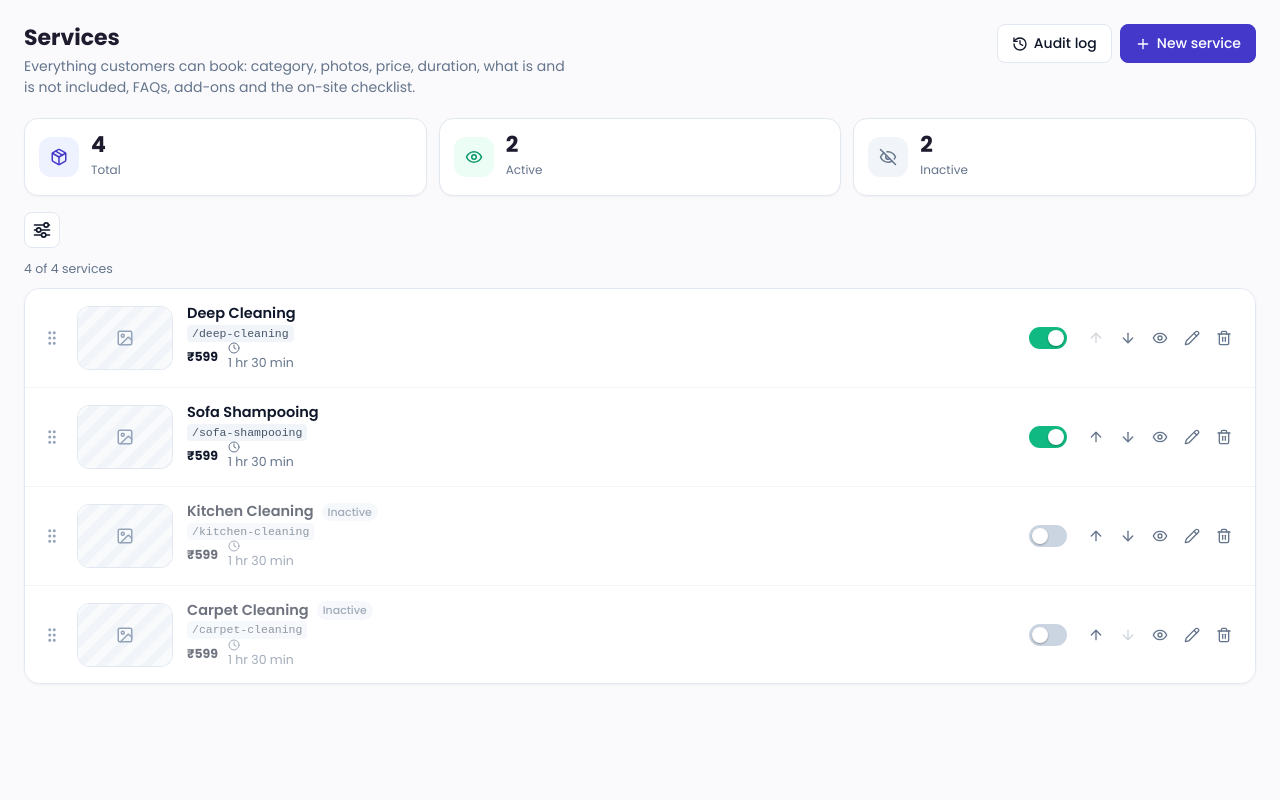
it: Admin services page › creates a service, sends the full payload and shows it in the catalog
Expected: the text "Deep Cleaning" is shown, [187, 303, 296, 325]
Click the button "New service". click: (1188, 44)
box: [1120, 24, 1256, 63]
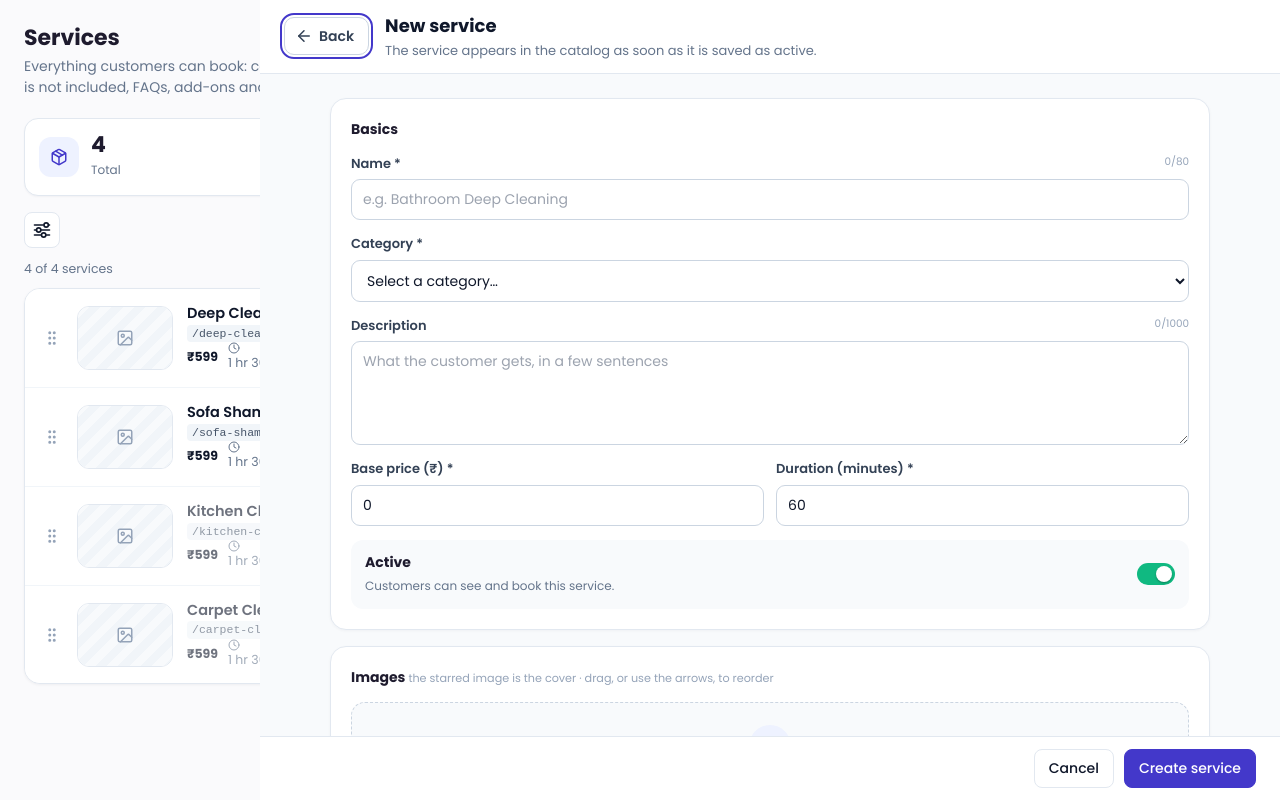
Type "Pest Spray" into the field labelled "Name * 0/80". click: (770, 200)
box: [351, 179, 1189, 220]
Select "Pest Control" in the dropdown labelled "Category *". click: (770, 280)
box: [351, 260, 1189, 302]
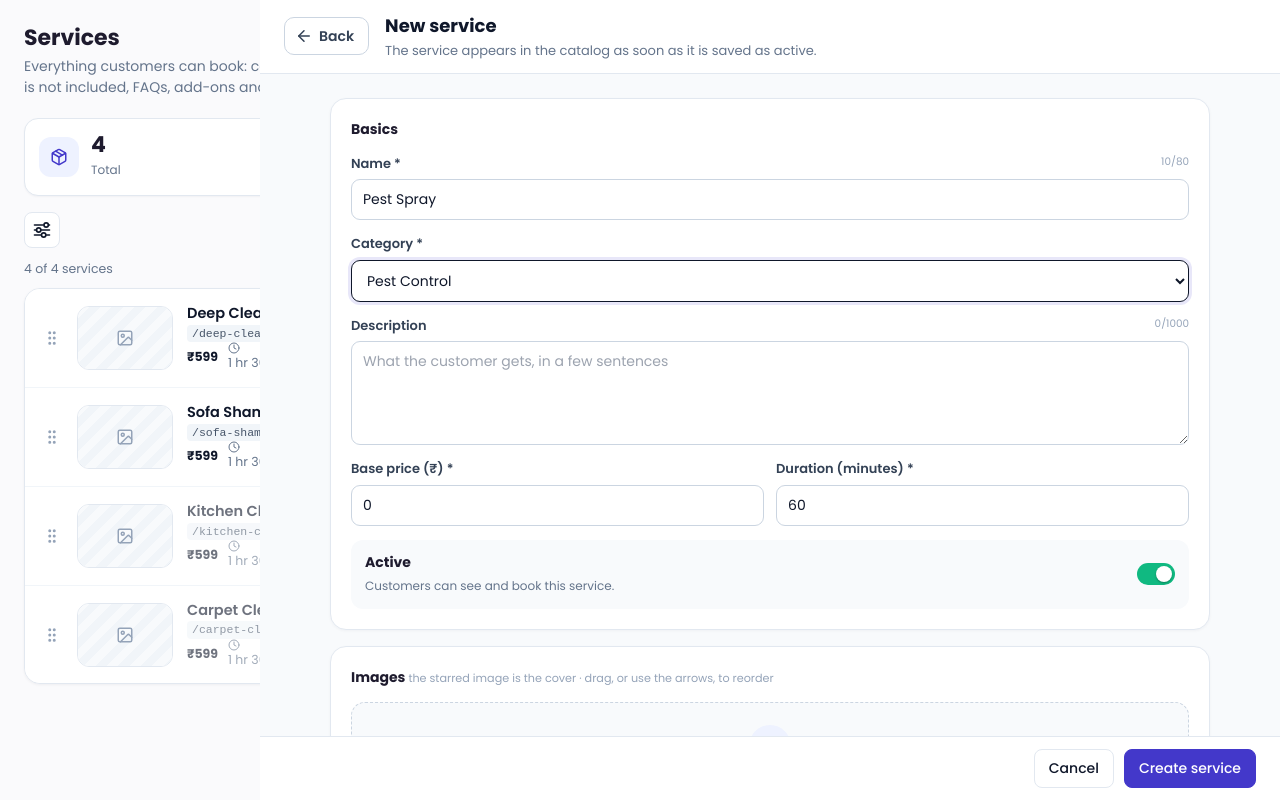
Replace the text in the number field labelled "Base price (₹) *" with "899". click: (558, 505)
box: [351, 484, 764, 526]
(page scrolled)
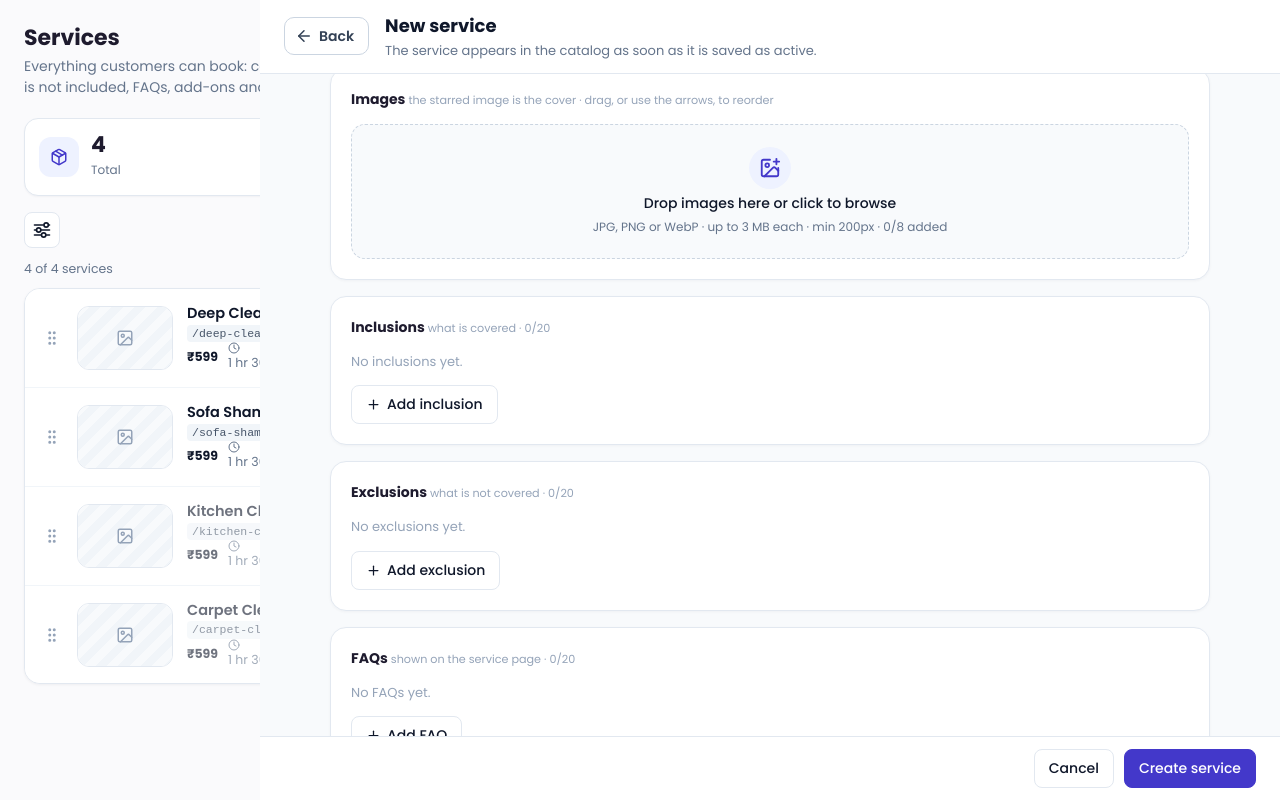
Click the button "Add inclusion". click: (424, 404)
box: [351, 385, 498, 424]
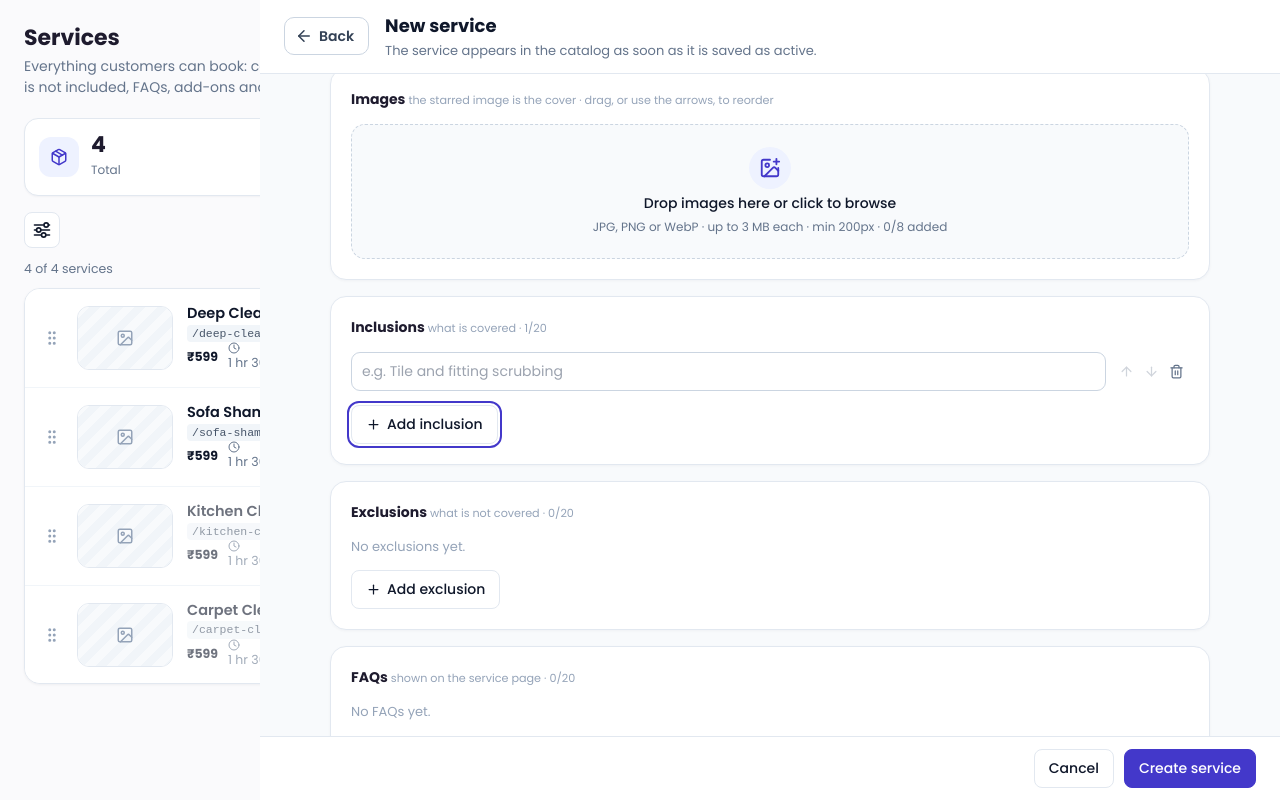
Type "Gel treatment" into the field named "Inclusions line 1". click: (728, 371)
box: [351, 352, 1106, 390]
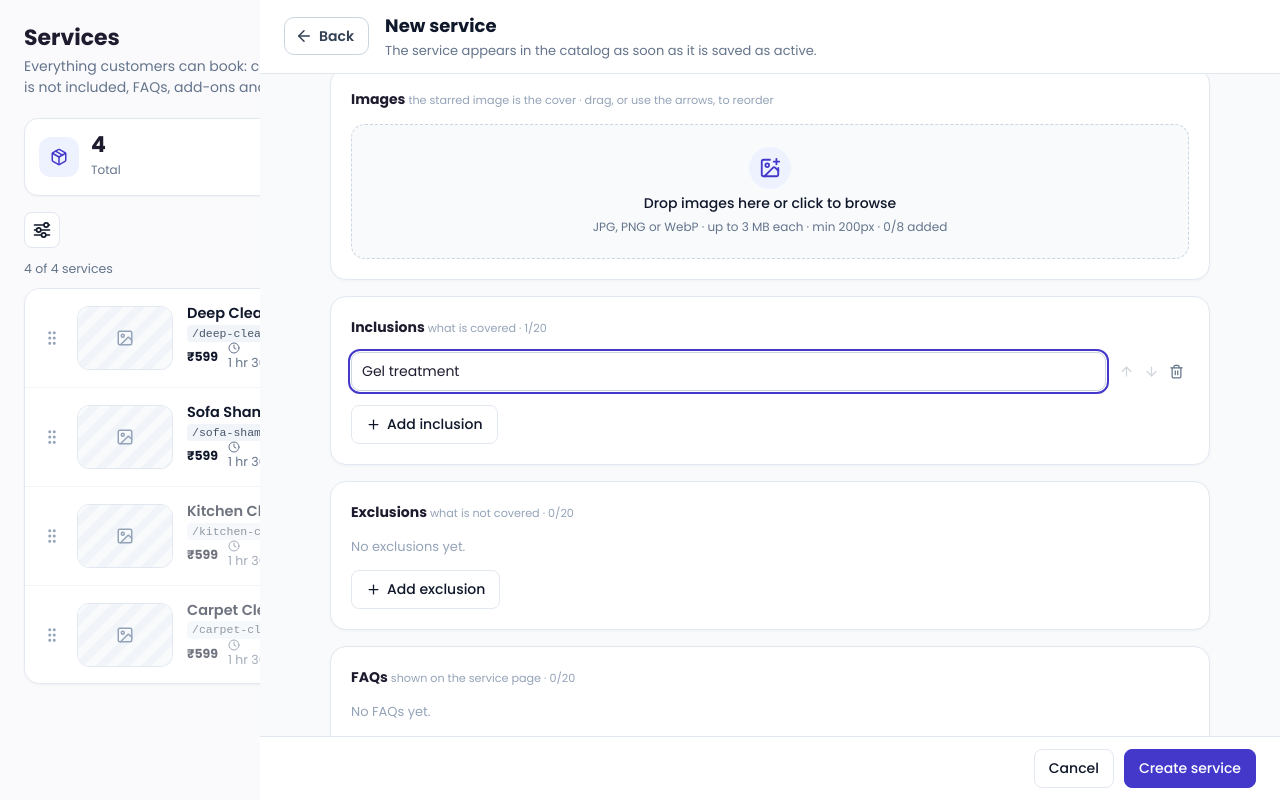
Click the button "Create service". click: (1190, 768)
box: [1124, 749, 1256, 788]
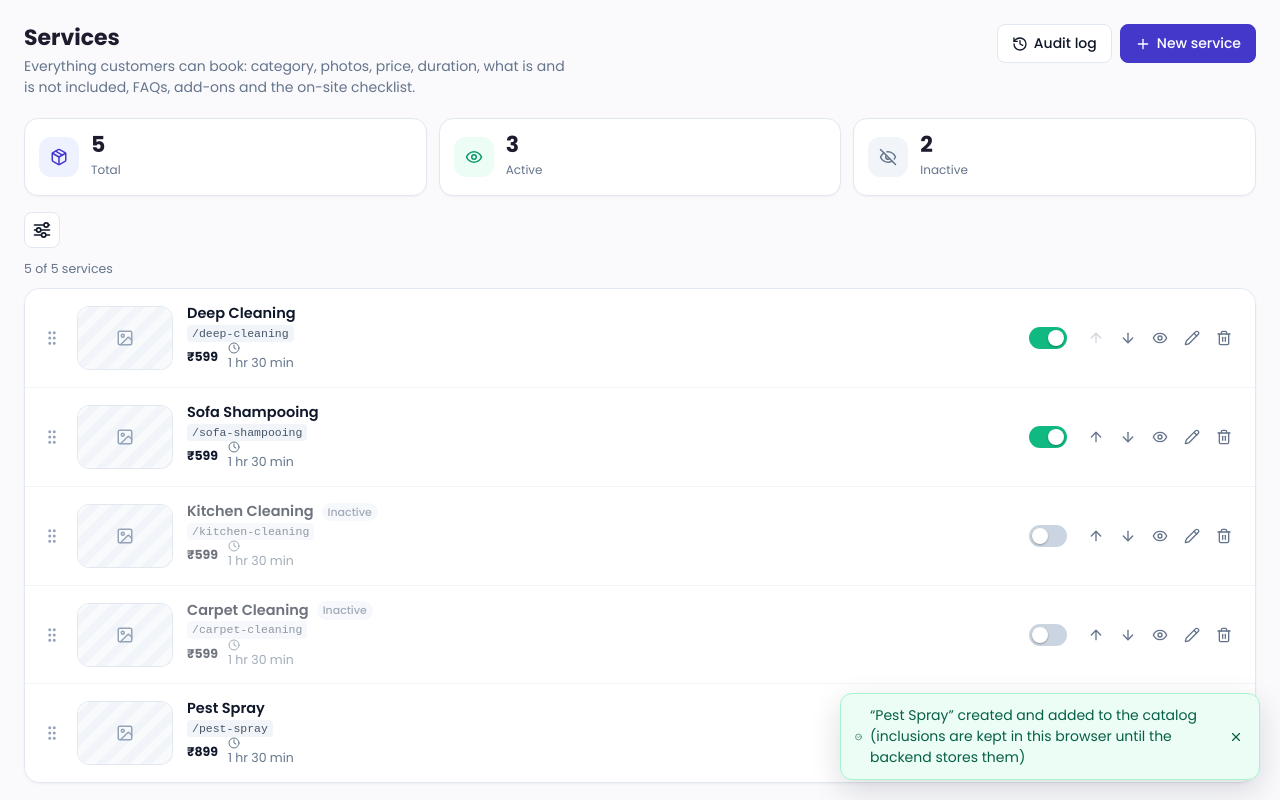
Result: the text "Pest Spray" is shown at [187, 698, 265, 720]
